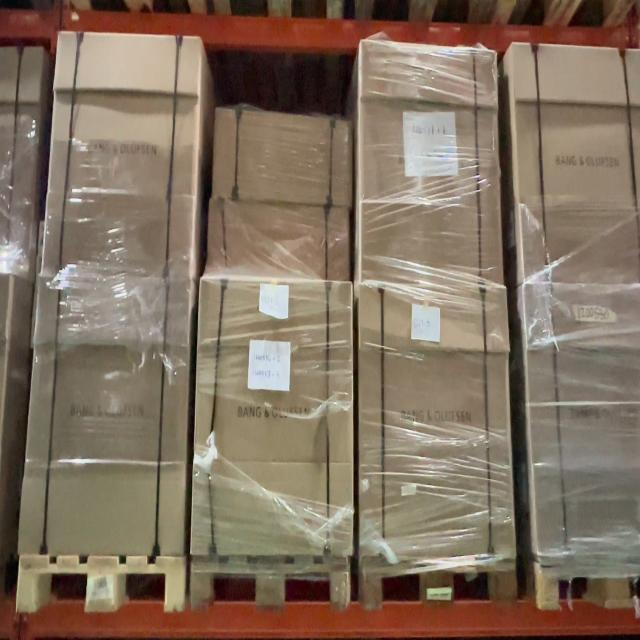box: (18, 279, 190, 554), (190, 282, 350, 556), (359, 289, 516, 555), (42, 31, 197, 278), (361, 48, 504, 286), (214, 109, 348, 204), (207, 198, 348, 278)
